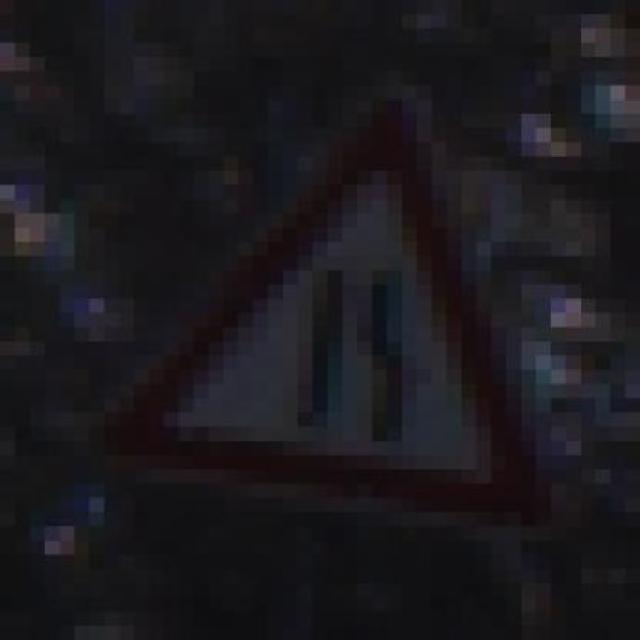-Road narrows on right: (104, 99, 581, 541)
